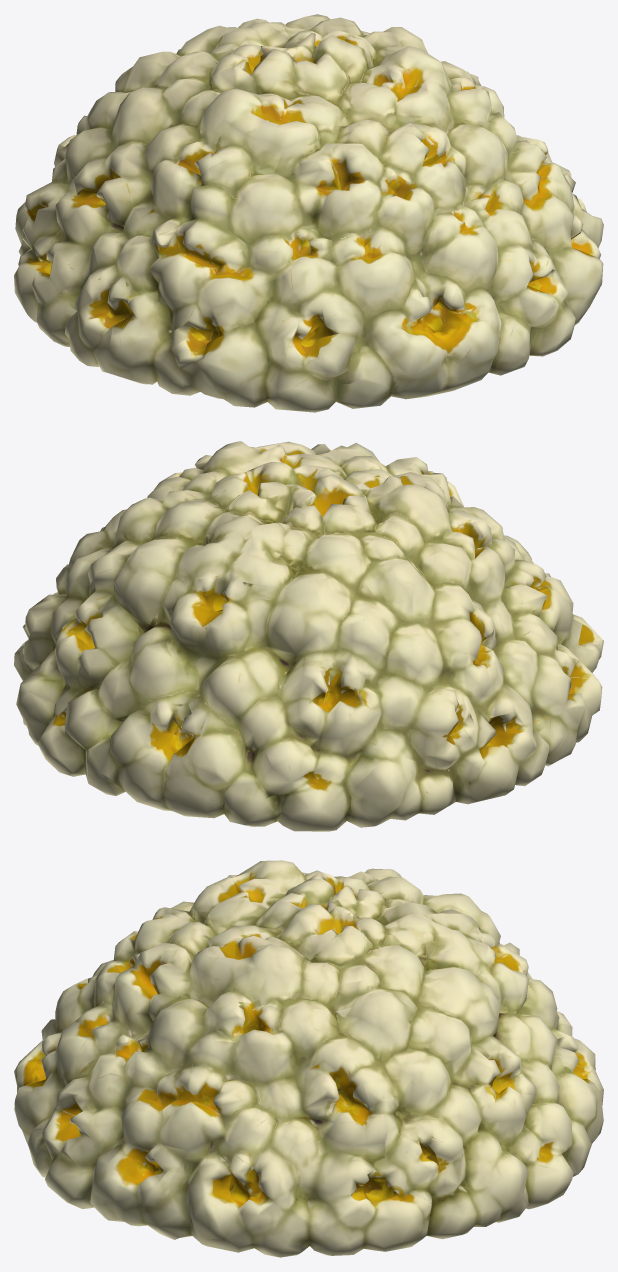
Rendered from Meshy_AI_Popcorn_Dome_0616204009_texture.fbx.
3 views of the same model, one above another, from view 1: azimuth 30°, elevation 25°; view 2: azimuth 150°, elevation 25°; view 3: azimuth 270°, elevation 25° (orthographic).
Parts seen in each view (by area): view 1: Mesh1.0; view 2: Mesh1.0; view 3: Mesh1.0.
Boxes of the visible parts, <box> form: Mesh1.0: <box>14,14,603,412</box>; Mesh1.0: <box>14,441,603,831</box>; Mesh1.0: <box>14,860,603,1257</box>.
Bounding box in the file's own units: 189 × 90.47 × 192.
1 material, 1 textured.
